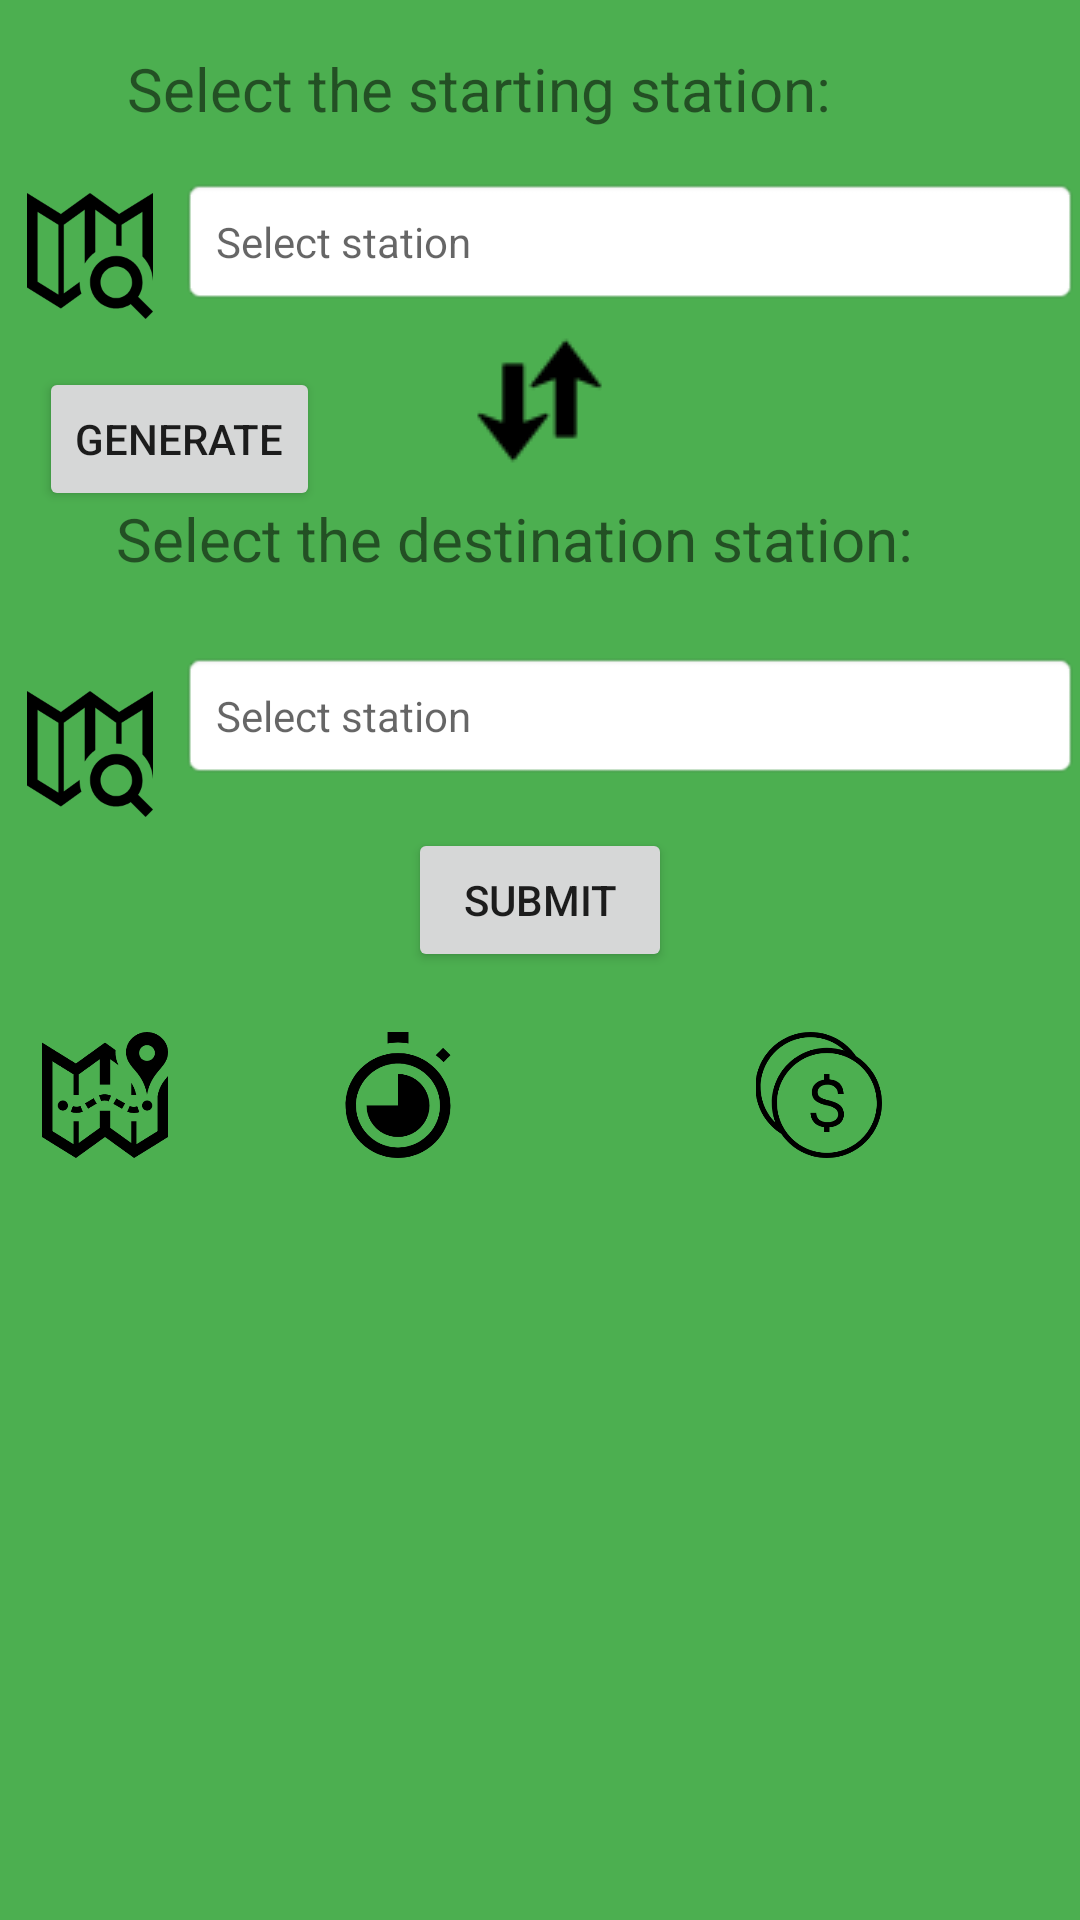

Screen size 1080x1920. Icon name, then its box in pixels as bbox=[x1, y1, x2, y2]:
cost: bbox=[756, 1032, 882, 1158]
distance: bbox=[42, 1032, 168, 1158]
map: bbox=[27, 193, 153, 319], bbox=[27, 691, 153, 817]
swap: bbox=[477, 340, 602, 462]
time: bbox=[345, 1032, 451, 1158]
